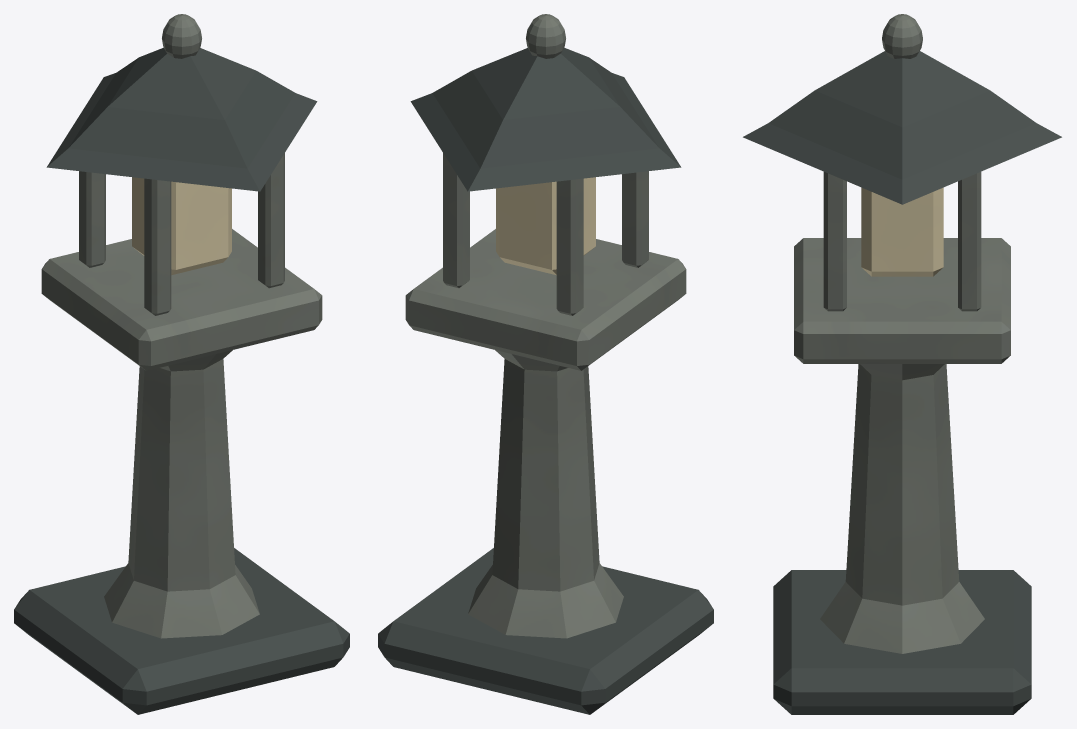
The model's file is PR_StoneLantern.glb.
3 renders of one model, left to right at view 1: azimuth 30°, elevation 25°; view 2: azimuth 150°, elevation 25°; view 3: azimuth 270°, elevation 25°, orthographic. The views are drawn at different scales.
Visible parts, largest first — view 1: PR_StoneLantern; view 2: PR_StoneLantern; view 3: PR_StoneLantern.
Boxes of the visible parts, box(x1,y1,x2,y2) form: PR_StoneLantern: box(14, 14, 349, 714); PR_StoneLantern: box(378, 14, 713, 714); PR_StoneLantern: box(743, 14, 1061, 714).
Bounding box in the file's own units: 0.62 × 1.39 × 0.62.
3 materials, 2 textured.
